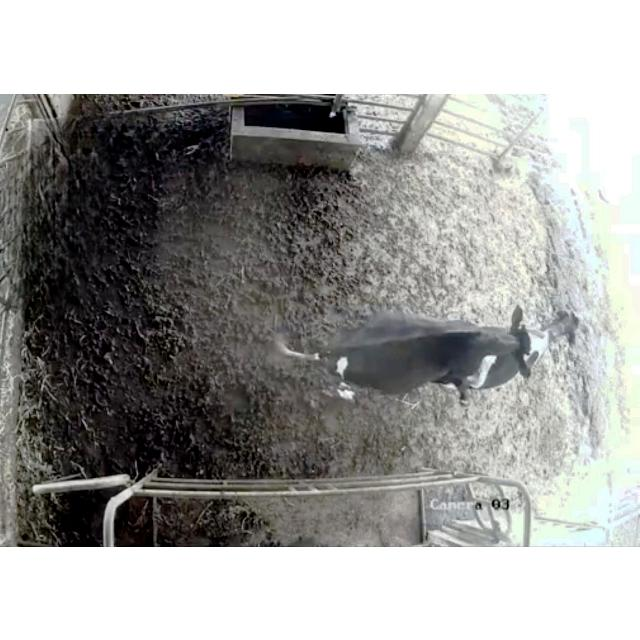ride: (318, 296, 542, 426)
